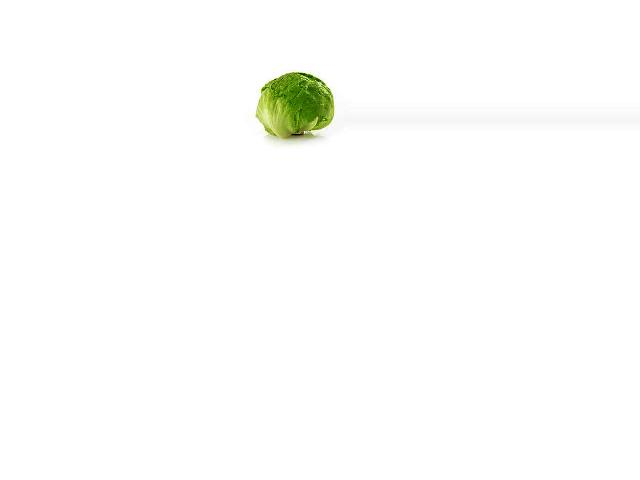lettuce: (255, 70, 343, 133)
